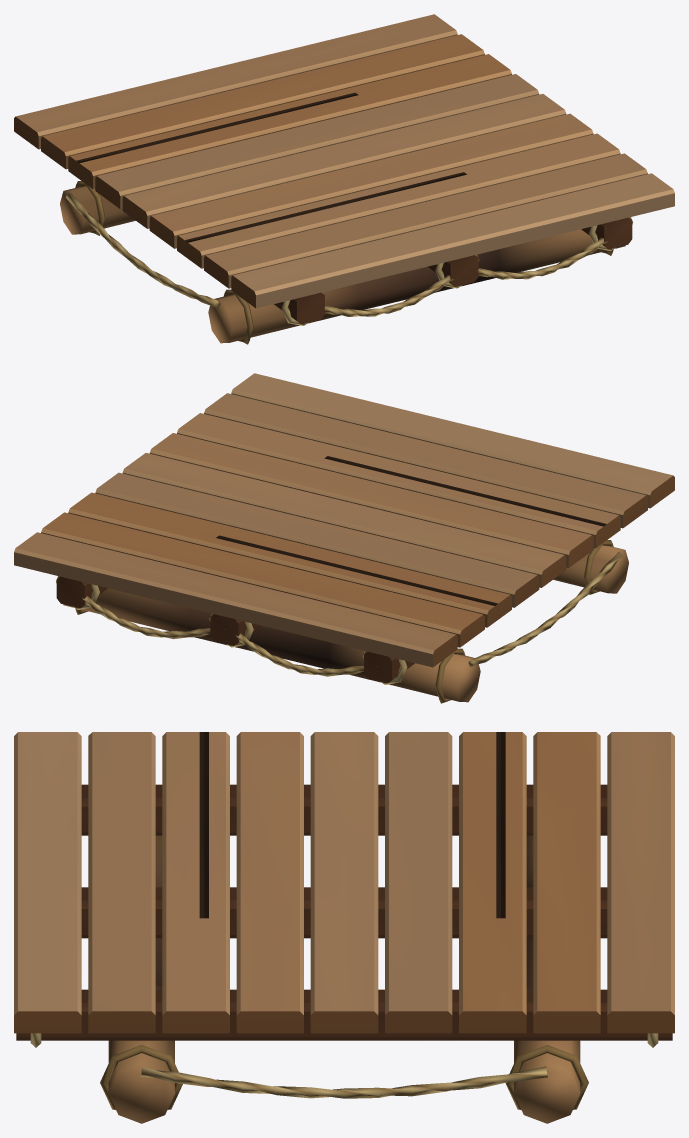
The model's file is platform_mountain.glb.
The picture shows the model from 3 angles, top to bottom: view 1: azimuth 30°, elevation 25°; view 2: azimuth 150°, elevation 25°; view 3: azimuth 270°, elevation 25°; orthographic projection. The views are drawn at different scales.
Parts seen in each view (by area): view 1: platform_mountain; view 2: platform_mountain; view 3: platform_mountain.
Part boxes in pixels (x1=…): platform_mountain: x1=14, y1=14, x2=674, y2=344; platform_mountain: x1=14, y1=373, x2=674, y2=703; platform_mountain: x1=14, y1=732, x2=674, y2=1123.
Size of the model in its own units: 3 by 0.6 by 3.
